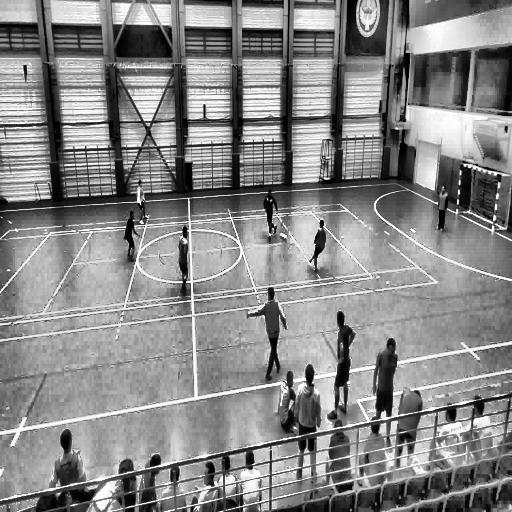ball: (281, 232, 287, 245)
player: (292, 365, 321, 484), (330, 308, 355, 418), (259, 286, 286, 379), (373, 338, 397, 436), (323, 418, 355, 490), (48, 430, 86, 486), (356, 418, 388, 484), (432, 404, 464, 469), (466, 393, 496, 460), (238, 444, 265, 512), (274, 370, 298, 436), (190, 461, 217, 512), (217, 446, 237, 512), (138, 454, 160, 512), (161, 466, 186, 512), (308, 218, 326, 274), (178, 225, 191, 296), (264, 189, 279, 240), (134, 178, 150, 225), (124, 210, 138, 262), (435, 183, 448, 233)
